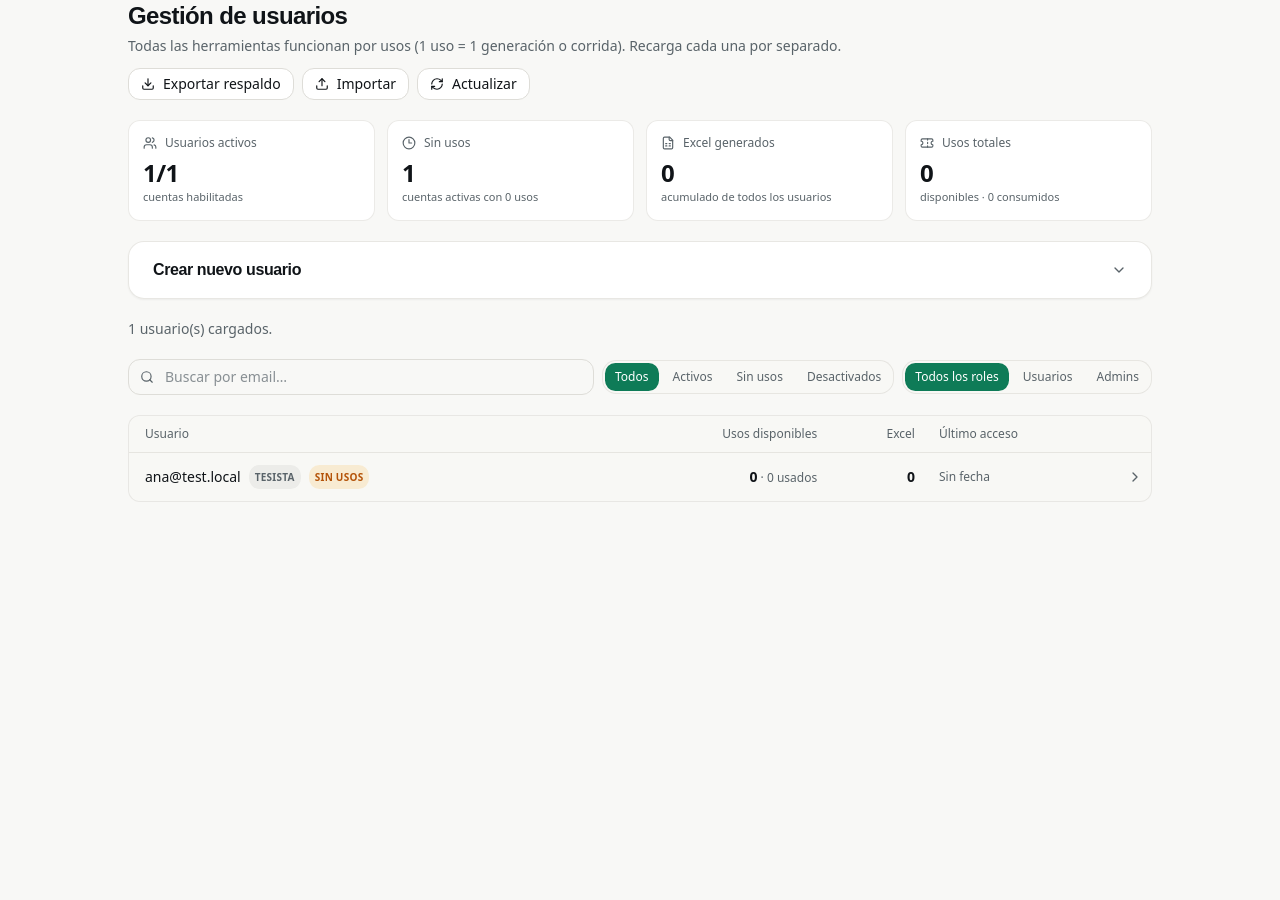
Test: UsersSection — fila operable por teclado › Escape cierra el panel y devuelve el foco a la fila que lo abrió
Step 1. Click the button with aria-label "Gestionar a ana@test.local" → (193, 476), box left=129, top=452, right=1151, bottom=500
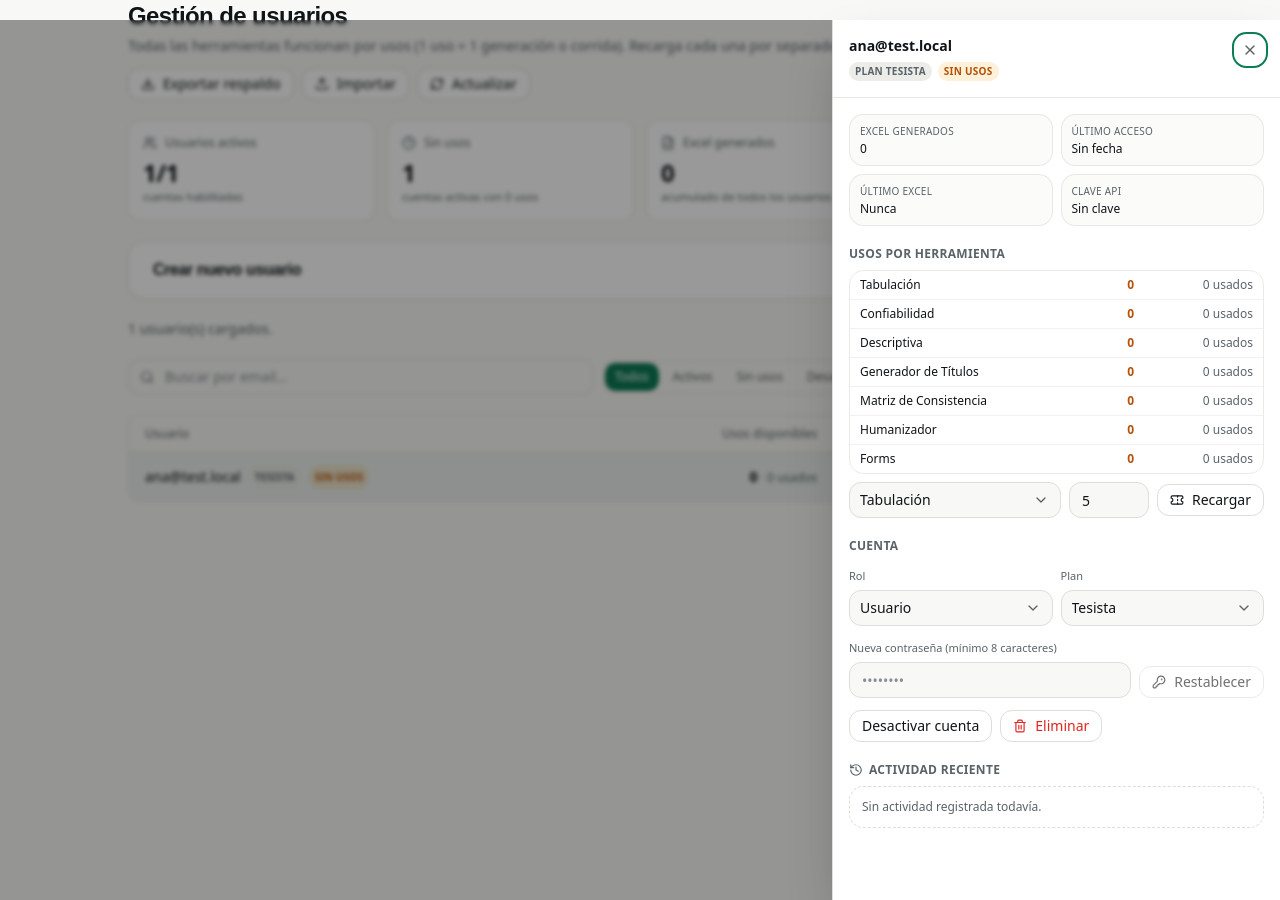
Now the dialog named "Gestionar a ana@test.local" is shown, box left=832, top=20, right=1279, bottom=899
Step 2. Press Escape
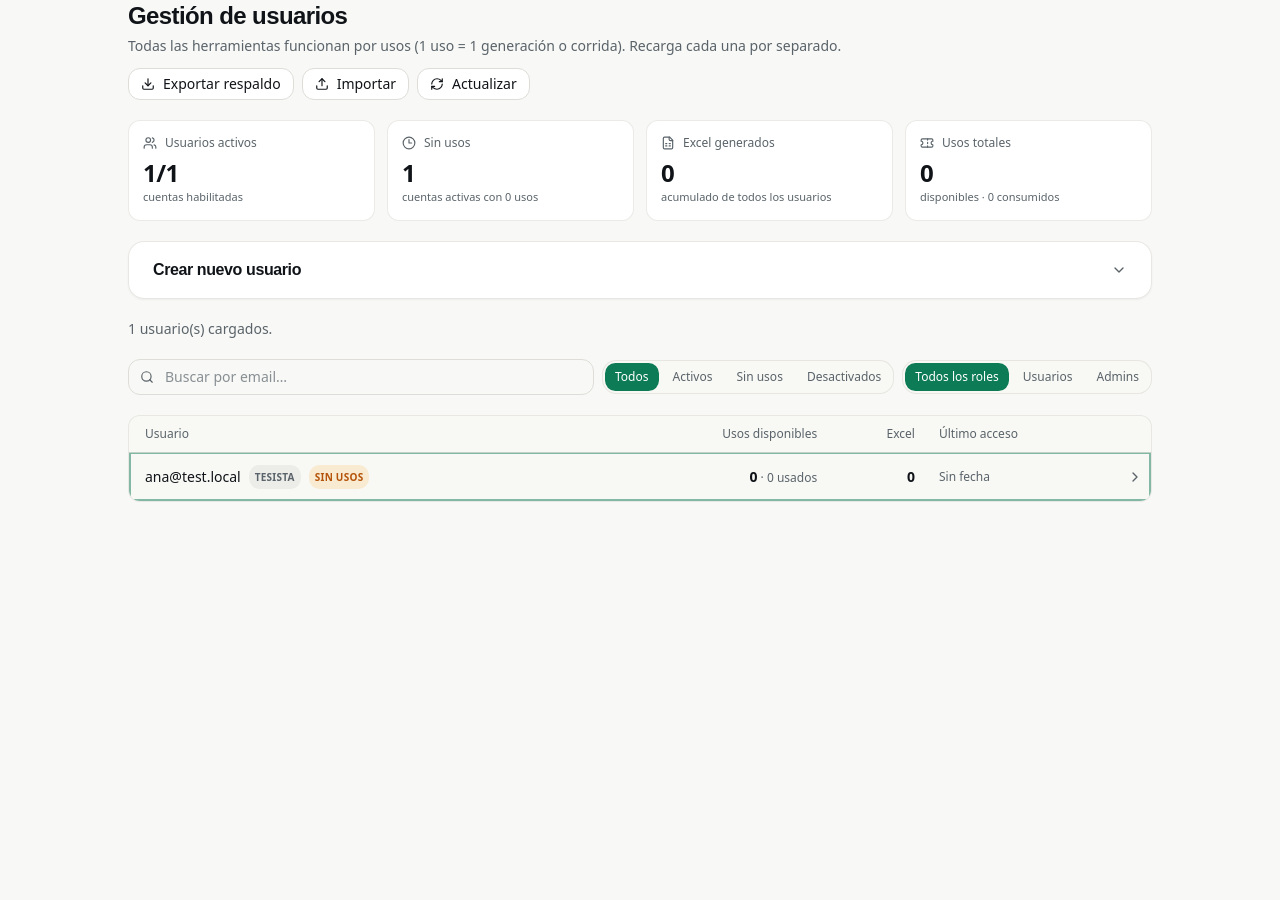
Now the dialog is gone
